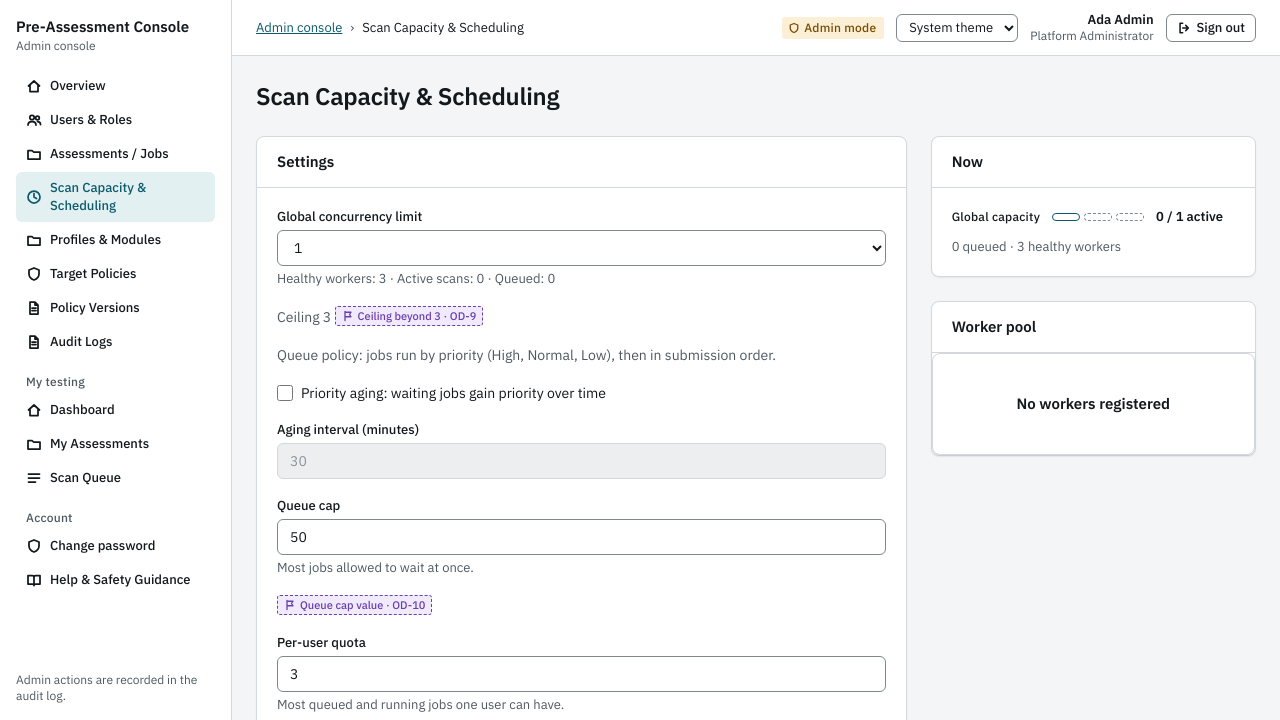
Test: capacity: confirm needs a reason, then PUT; a server 422 is shown inline
Select "2" in the dropdown labelled "Global concurrency limit": (581, 248) [277,230,886,266]
(page scrolled)
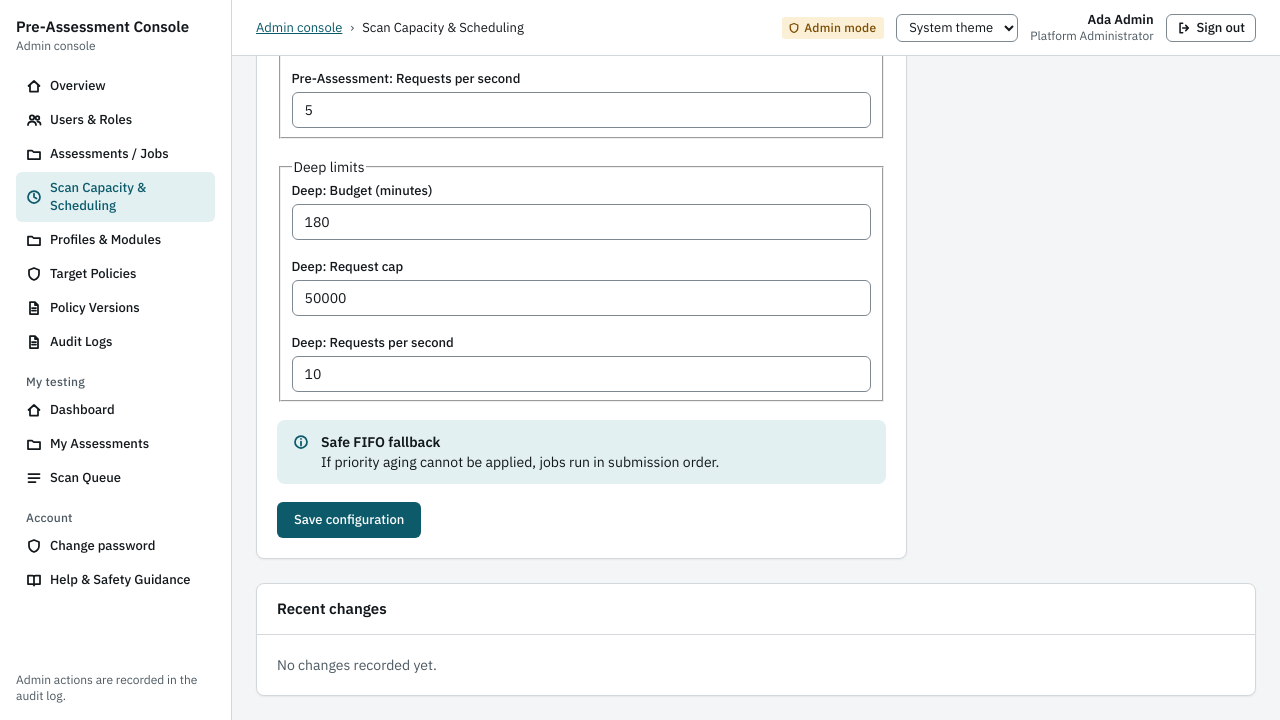
Click the button "Save configuration": (349, 520) [277,502,421,538]
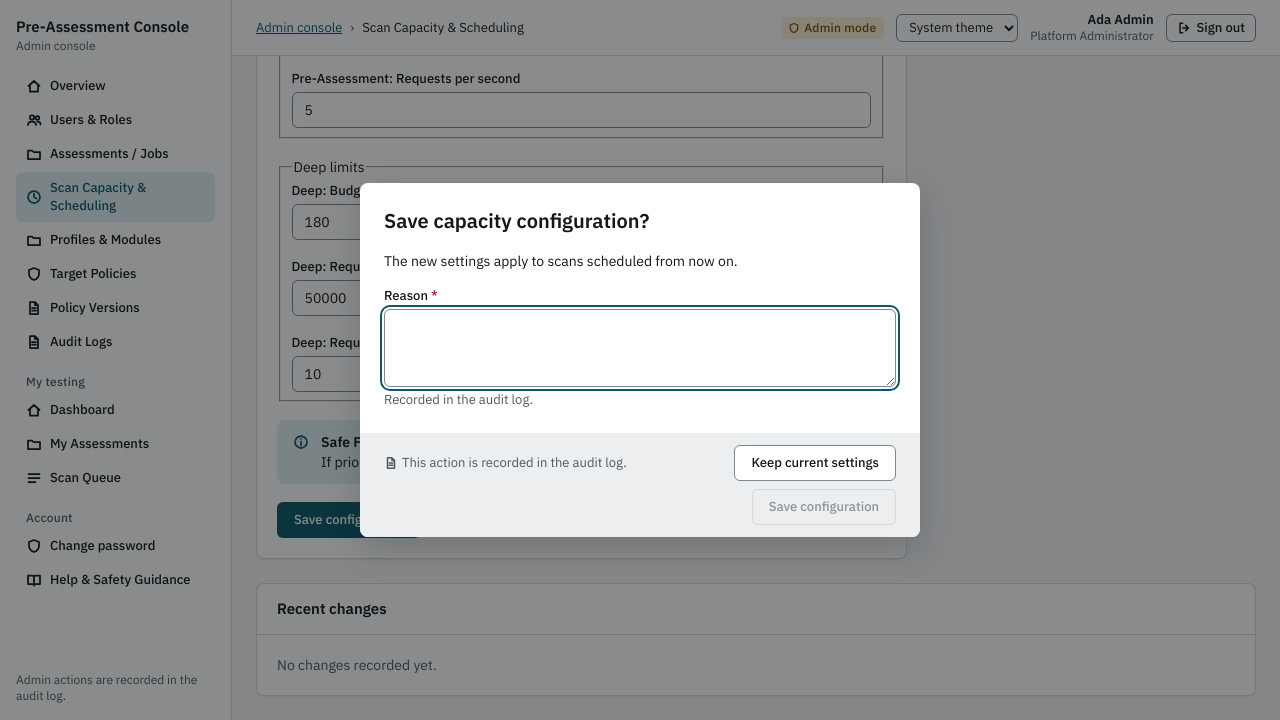
Check: the button "Save configuration" is disabled, box [752,489,896,525]
In the text box labelled "Reason *": (640, 348) [384,309,896,387], type "Need more throughput"
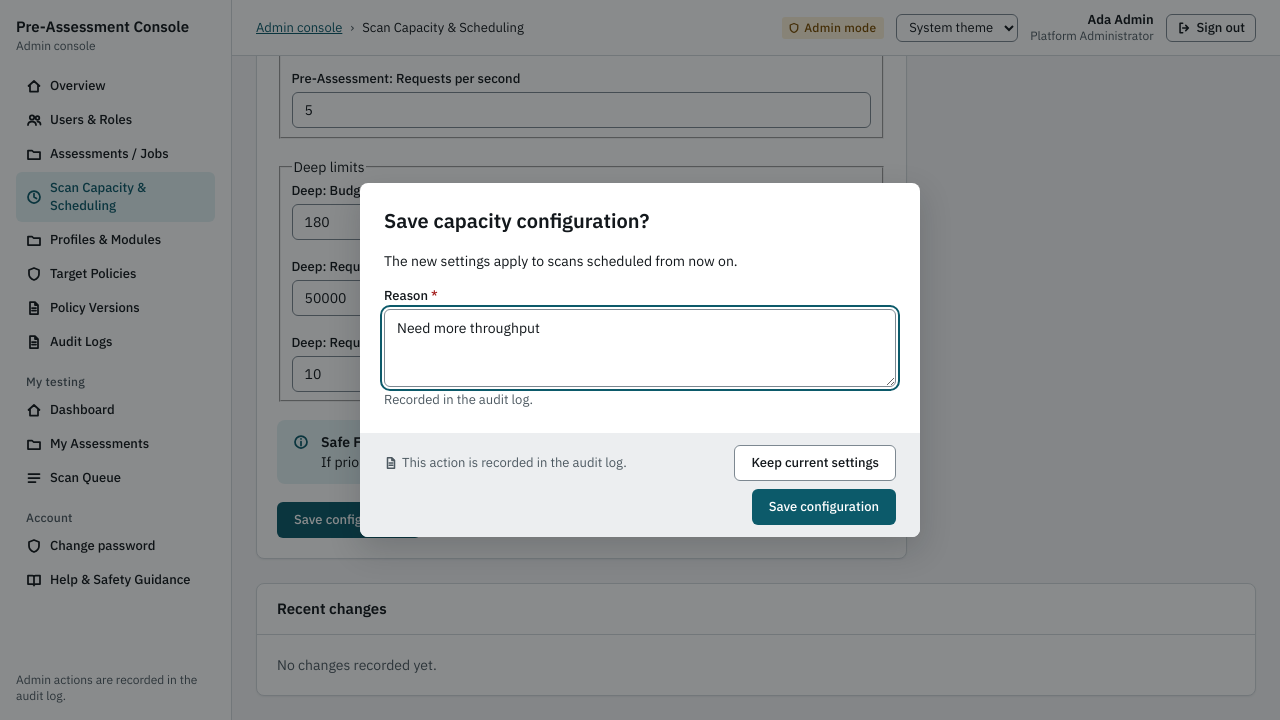
Check: the button "Save configuration" is enabled
Click the button "Save configuration": (824, 507) [752,489,896,525]
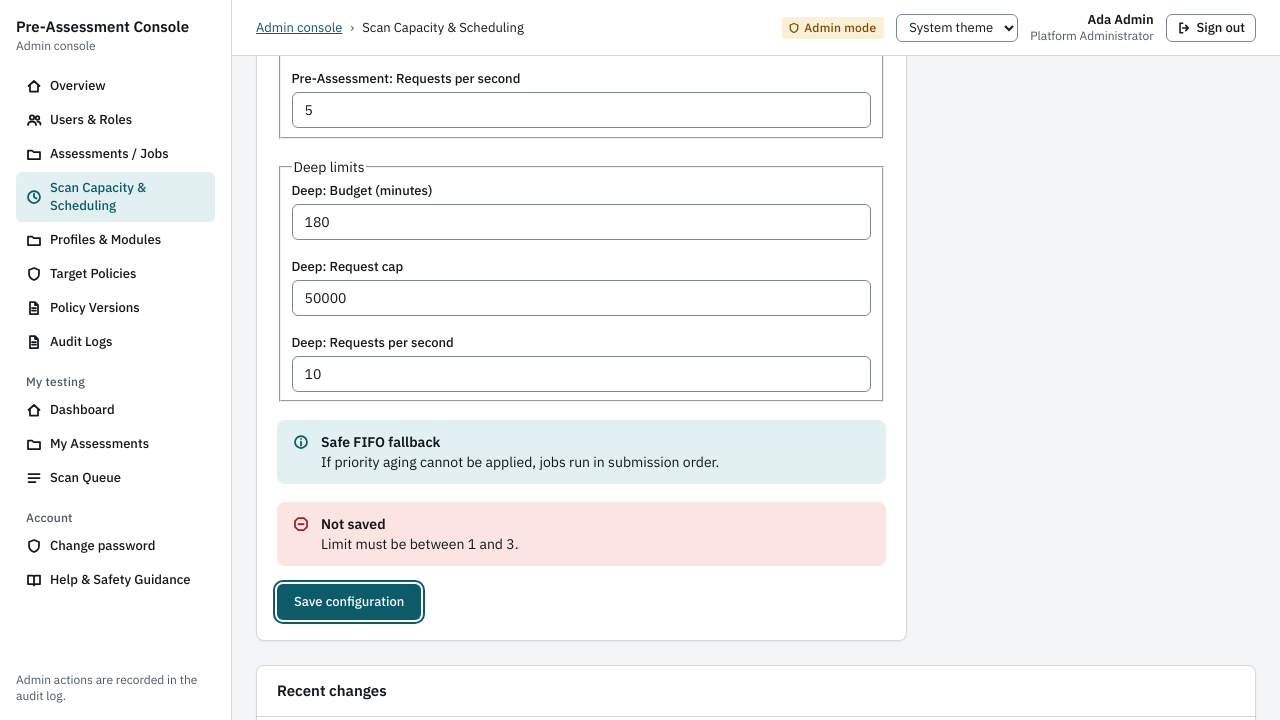
Check: the text "Limit must be between 1 and 3." is shown, box [321,535,518,553]
